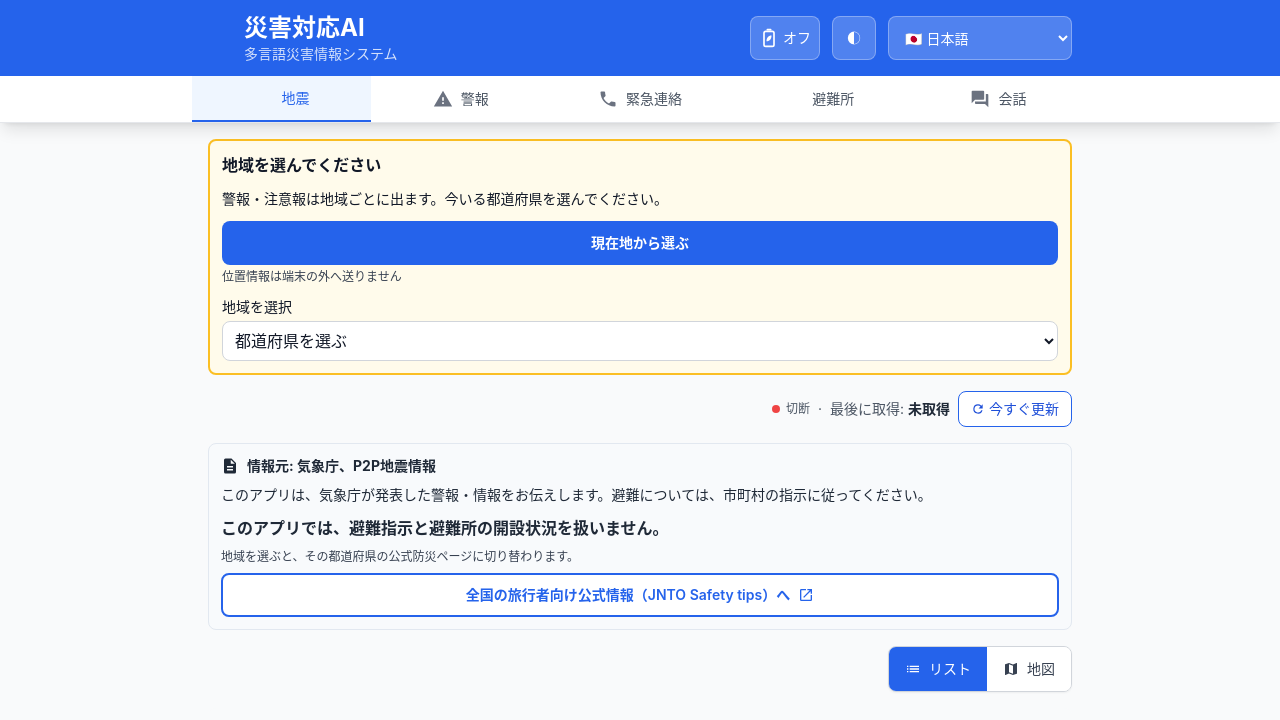
Test: page.tsx — 地域の明示（B8） › 地域が無ければ、どのタブでも警報を取りに行かず、上部と警報タブで「地域を選んでください」を出す
This screenshot has width=1280, height=720.
Expected: the element with test id "region-picker" shows "地域を選んでください", [222,155,381,175]
Click the tab with id "tab-warning": (461, 99) [371,76,550,122]
(page scrolled)
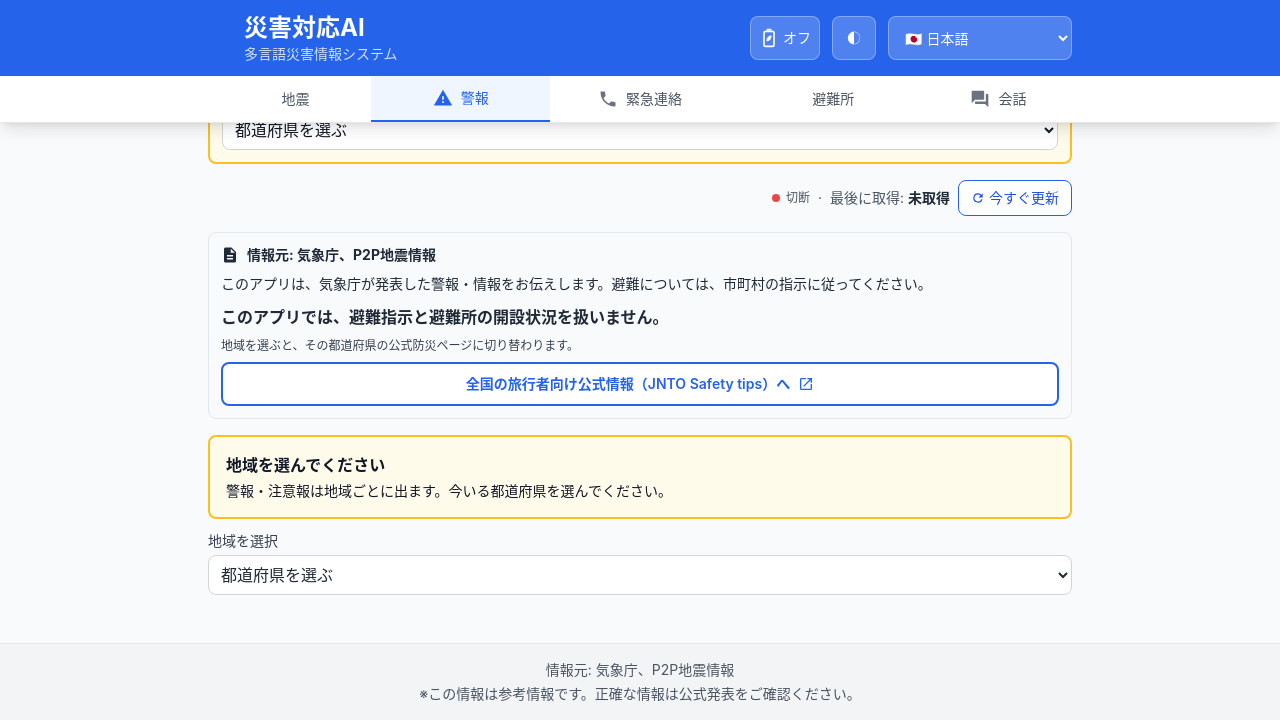
Expected: the element with test id "warning-choose-region" is shown, [208,435,1072,595]
